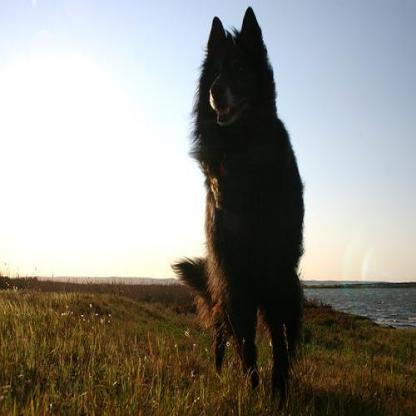groenendael: (166, 3, 303, 410)
